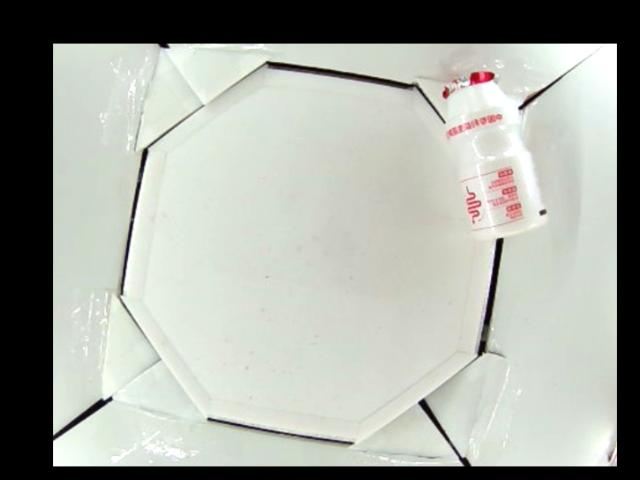Bottle: (438, 65, 549, 243)
